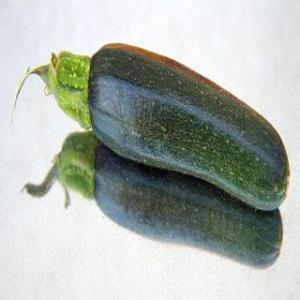zucchini: (17, 41, 296, 197)
